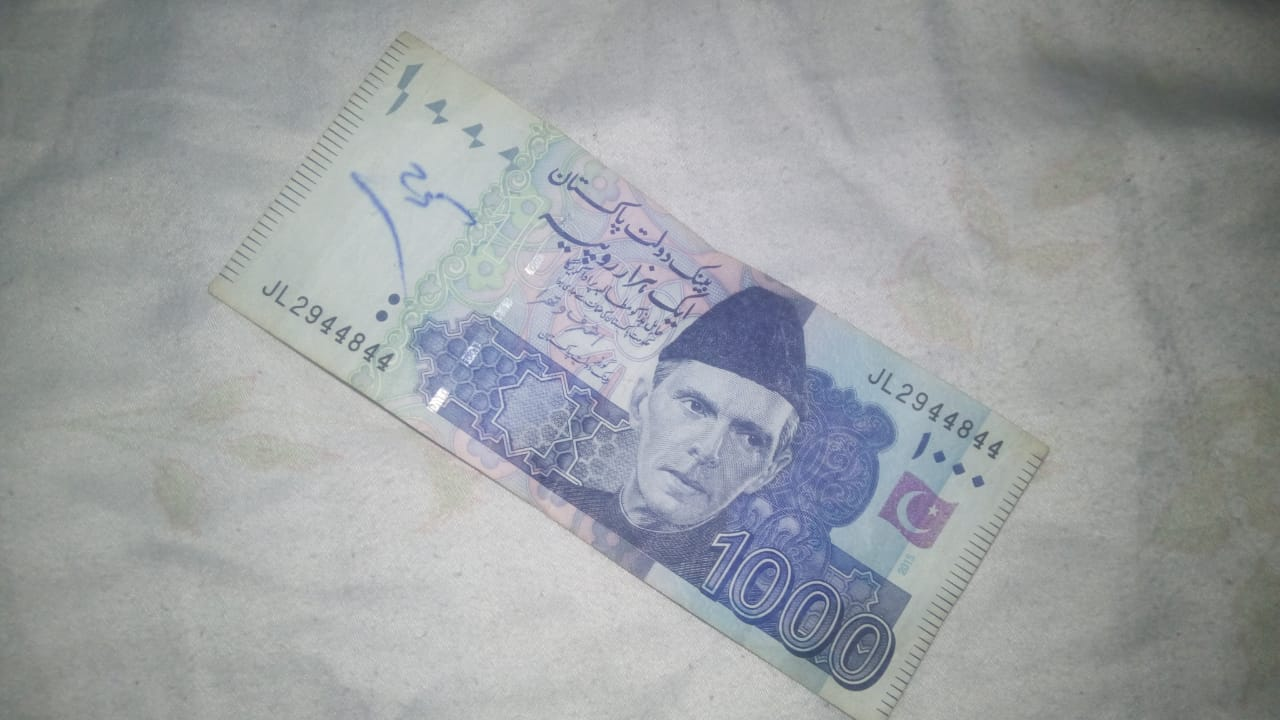1000 rupee: (215, 37, 1057, 692)
